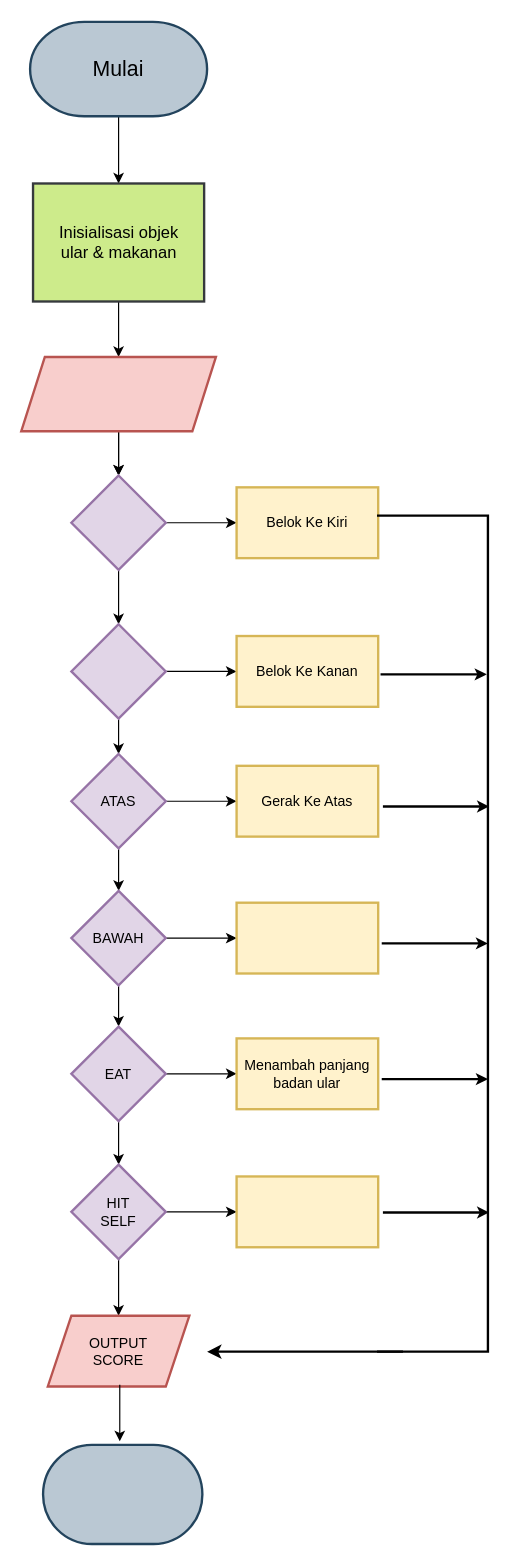
The diagram is 518 pixels wide and 1565 high, and some of its shapes have lost their labels. The centre of each missing label's shape, as x and y in pixels:
"Game Over" goes at pixel 307 1211.
"Gerak Ke Bawah" goes at pixel 307 937.
"INPUT" goes at pixel 118 393.
"KANAN" goes at pixel 118 670.
"KIRI" goes at pixel 118 522.
"SELESAI" goes at pixel 122 1494.
